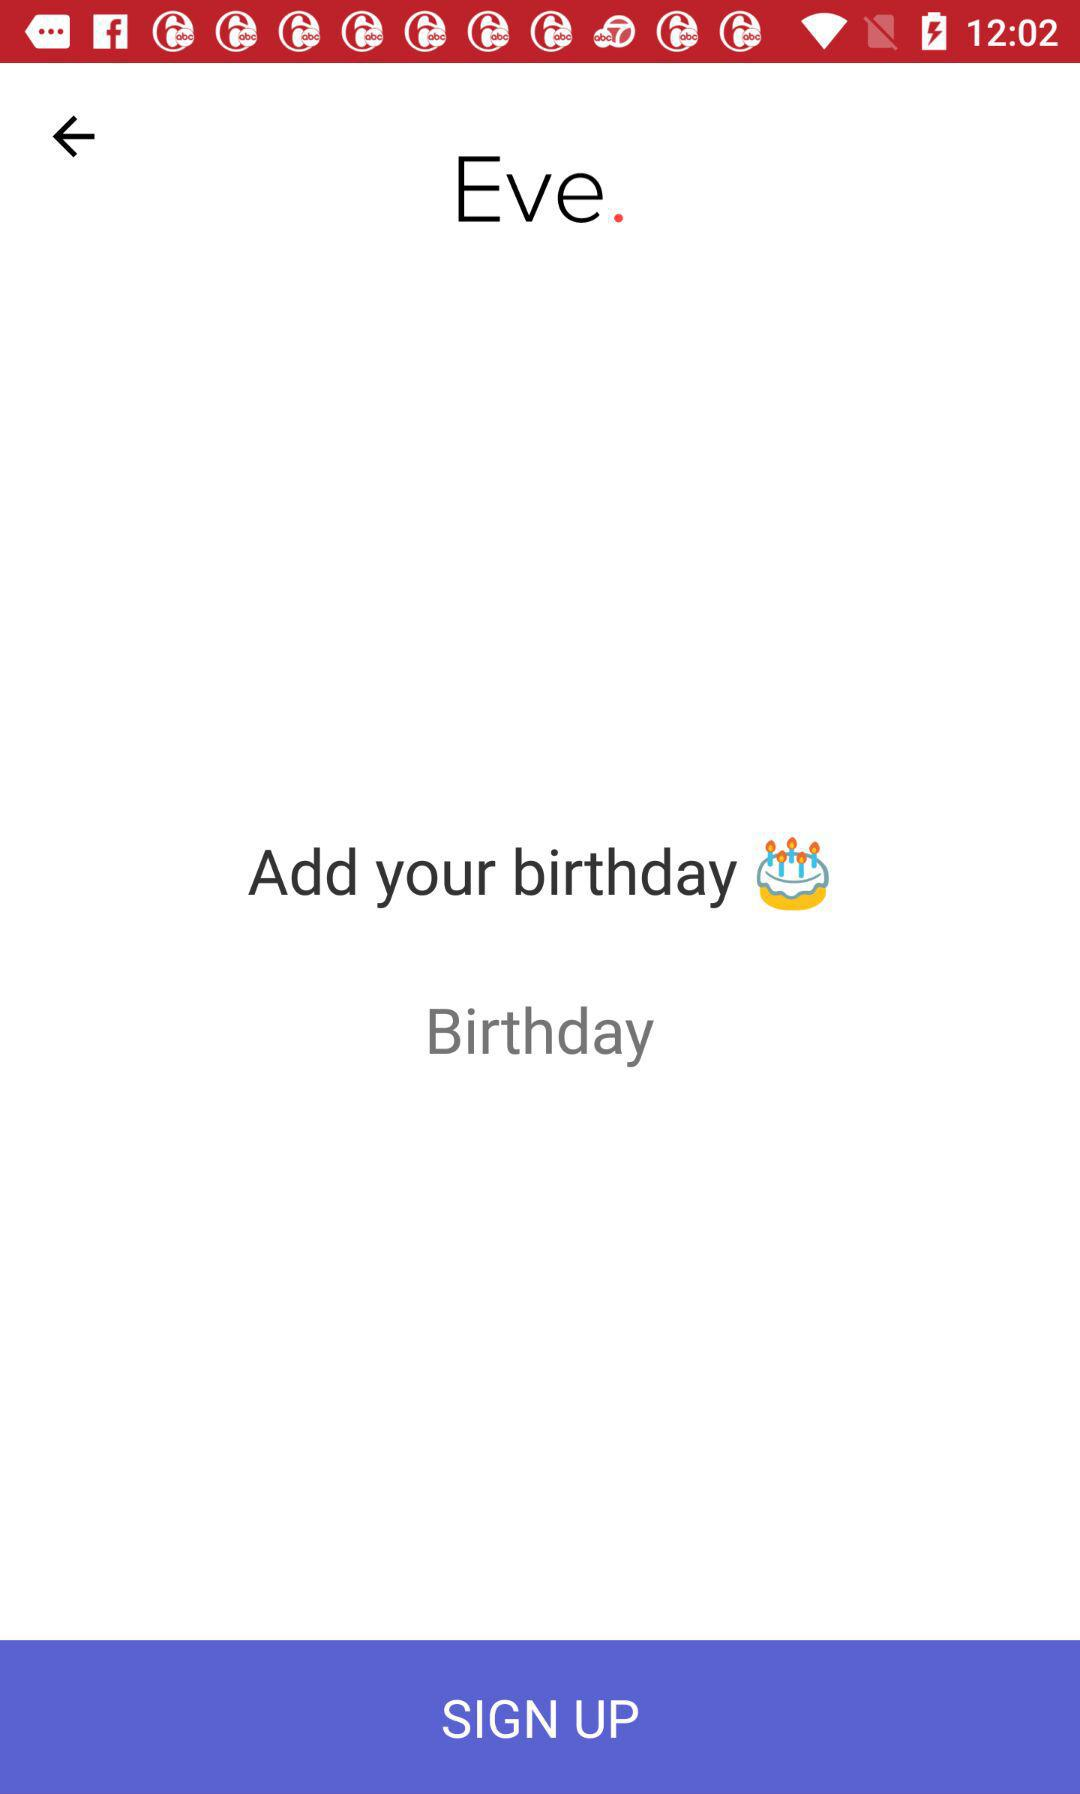Icon: (53, 115, 97, 160)
Image: (756, 835, 831, 912)
Text: (1, 1642, 1080, 1794), (249, 846, 739, 910), (429, 1005, 655, 1070), (457, 156, 625, 226)
UpperTaskBar: (1, 1, 1080, 64)
